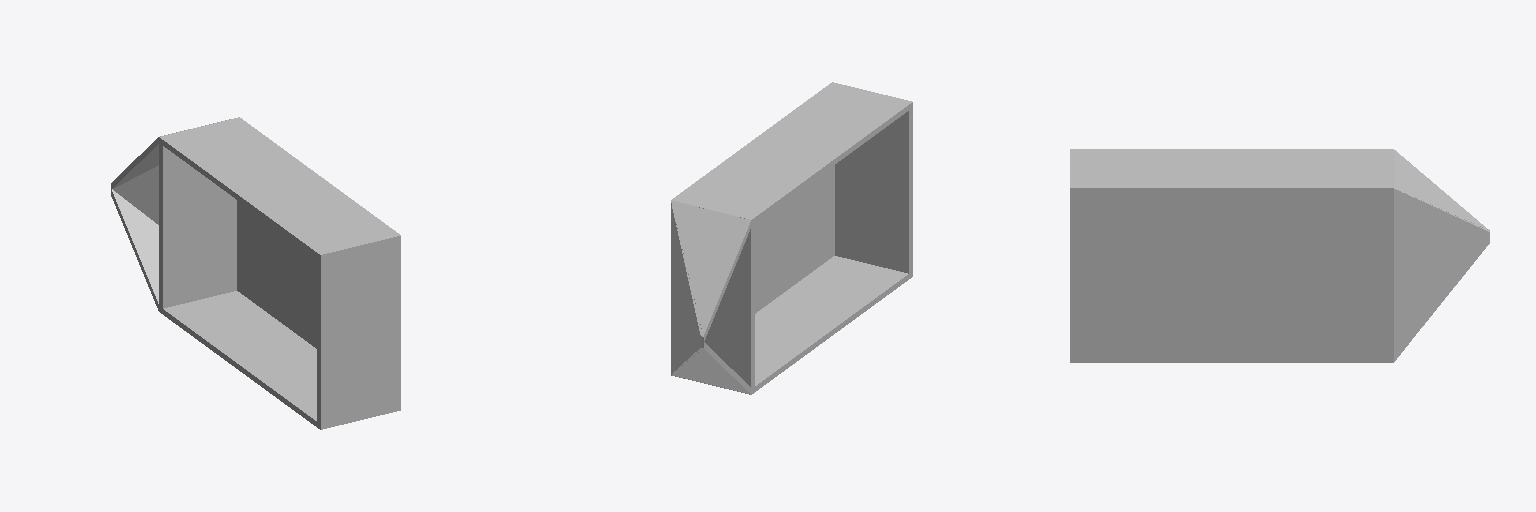
Rendered from obj2_fora-sino.obj.
The picture shows the model from 3 angles: view 1: azimuth 30°, elevation 25°; view 2: azimuth 150°, elevation 25°; view 3: azimuth 270°, elevation 25°; orthographic projection.
Parts seen in each view (by area): view 1: Cube.123_Cube.129, Cube.124_Cube.130, Cube.126_Cube.132, Cube.125_Cube.131; view 2: Cube.123_Cube.129, Cube.125_Cube.131, Cube.126_Cube.132, Cube.124_Cube.130; view 3: Cube.123_Cube.129, Cube.126_Cube.132, Cube.125_Cube.131.
Part boxes in pixels (x1,y1,x2,y2): Cube.123_Cube.129: (159, 117, 400, 429); Cube.124_Cube.130: (111, 189, 158, 310); Cube.126_Cube.132: (113, 165, 158, 224); Cube.125_Cube.131: (111, 119, 229, 188); Cube.123_Cube.129: (671, 82, 912, 394); Cube.125_Cube.131: (671, 200, 750, 340); Cube.126_Cube.132: (671, 204, 703, 373); Cube.124_Cube.130: (671, 342, 750, 394); Cube.123_Cube.129: (1070, 149, 1393, 362); Cube.126_Cube.132: (1394, 189, 1489, 361); Cube.125_Cube.131: (1394, 150, 1489, 230).
Size of the model in its own units: 2.36 by 4.87 by 10.57.